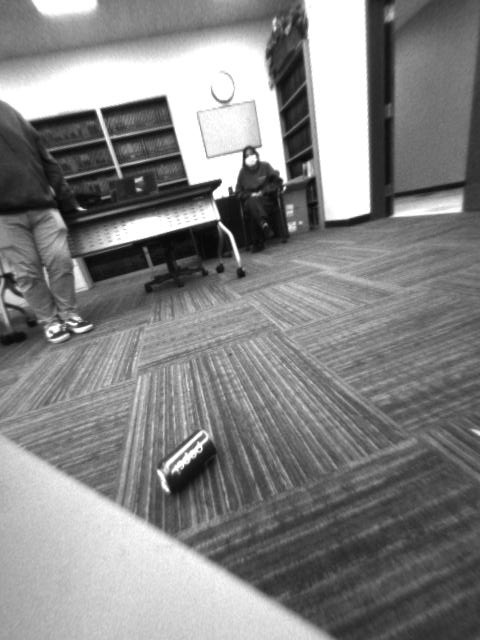can: (152, 425, 224, 502)
